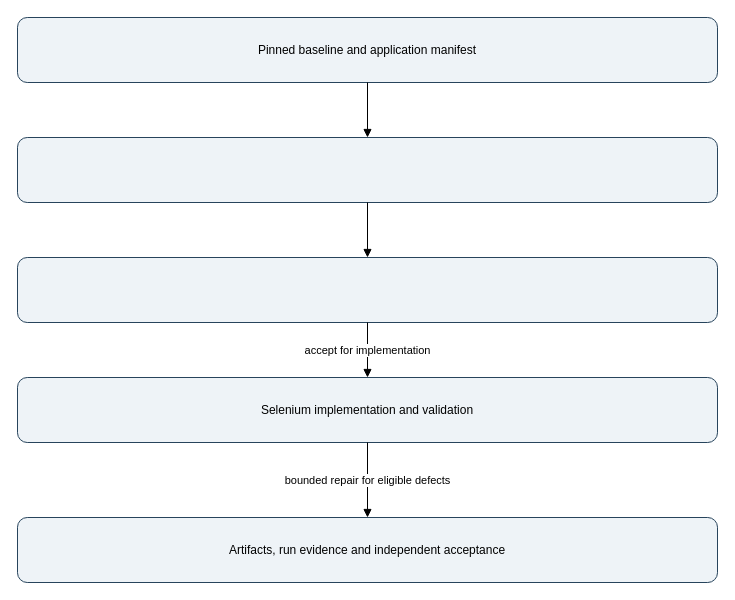
This 735x600 diagram has some shape labels left out. Each missing label, with the centre of its shape:
"Checkpoint and human review" goes at [367,289].
"Coverage analysis and Gherkin generation" goes at [367,169].
